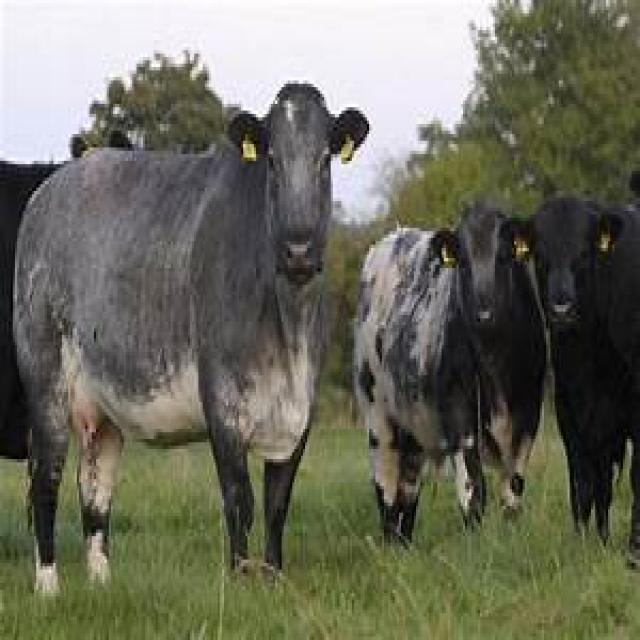cow: (14, 84, 368, 592), (355, 208, 546, 541), (511, 198, 640, 564), (0, 161, 60, 456), (71, 132, 88, 156), (108, 130, 130, 147)
